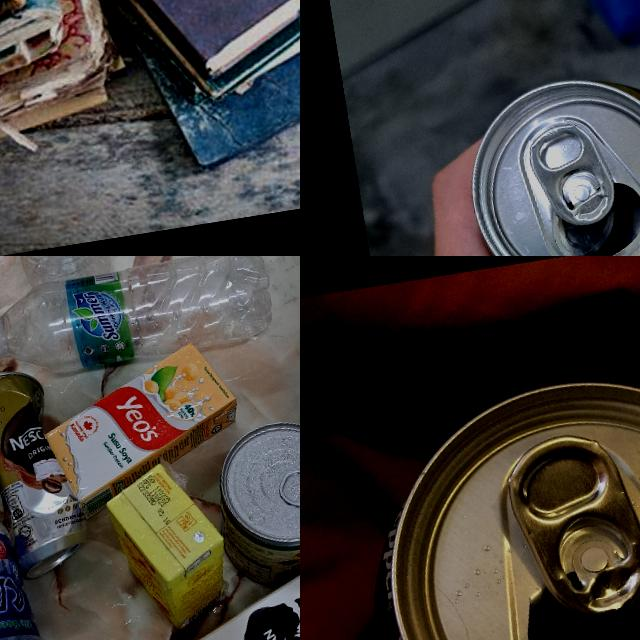aba de lata: (499, 427, 640, 627), (526, 118, 619, 232), (272, 457, 300, 525)
caixinha: (36, 337, 250, 510), (7, 524, 300, 640), (102, 454, 228, 634)
garrafa plástica: (0, 256, 281, 381), (0, 347, 60, 640), (0, 256, 118, 303)
lata: (358, 345, 640, 640), (456, 64, 640, 256), (0, 357, 93, 584), (211, 410, 300, 598)
papel: (92, 0, 300, 179), (0, 0, 140, 165)
